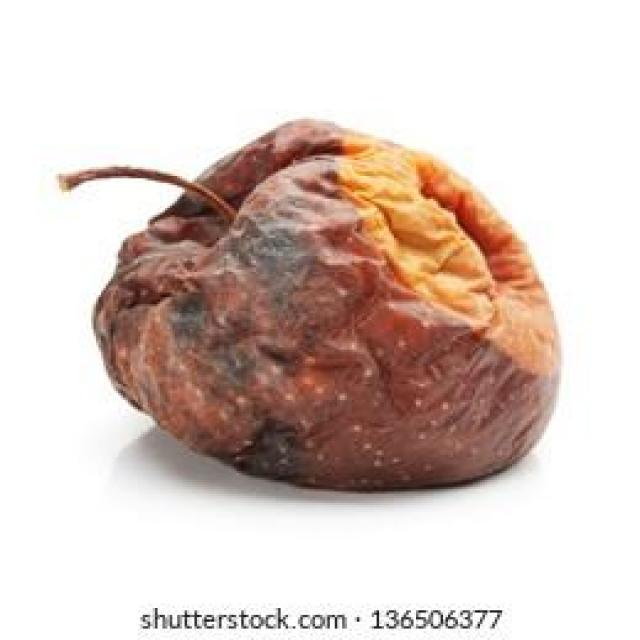Rotten: (87, 113, 564, 486)
